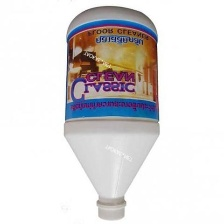cleaning_solution: (61, 2, 162, 223)
